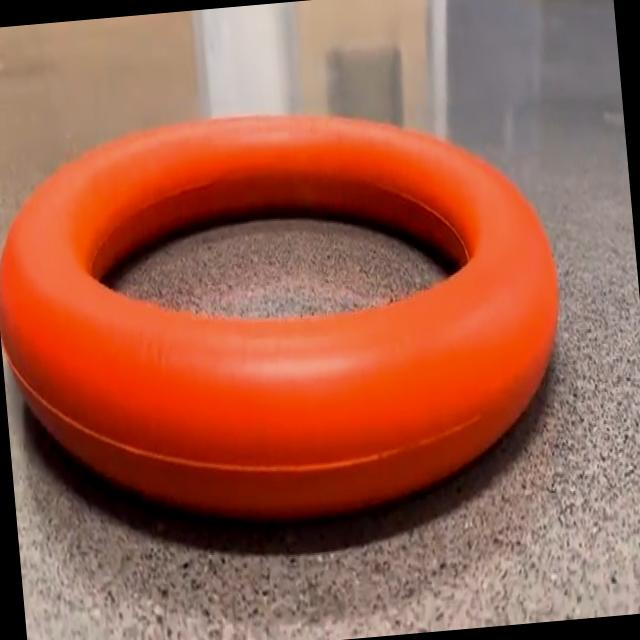note: (0, 109, 554, 522)
